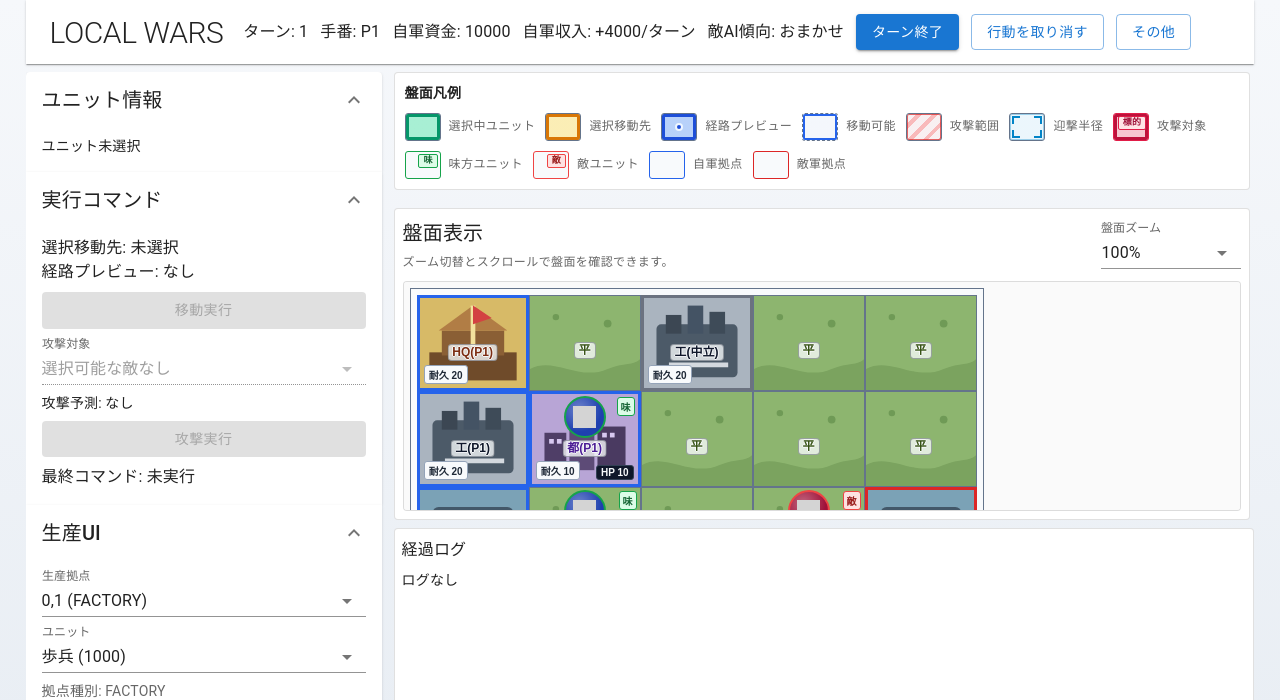
Test: BattleScreen UIテスト: 盤面ズーム › ズーム変更後もタイルクリックで正しいユニット選択ができる
Select "70%" in the dropdown labelled "盤面ズーム" at (1171, 253), box top-left (1101, 237), bottom-right (1241, 269)
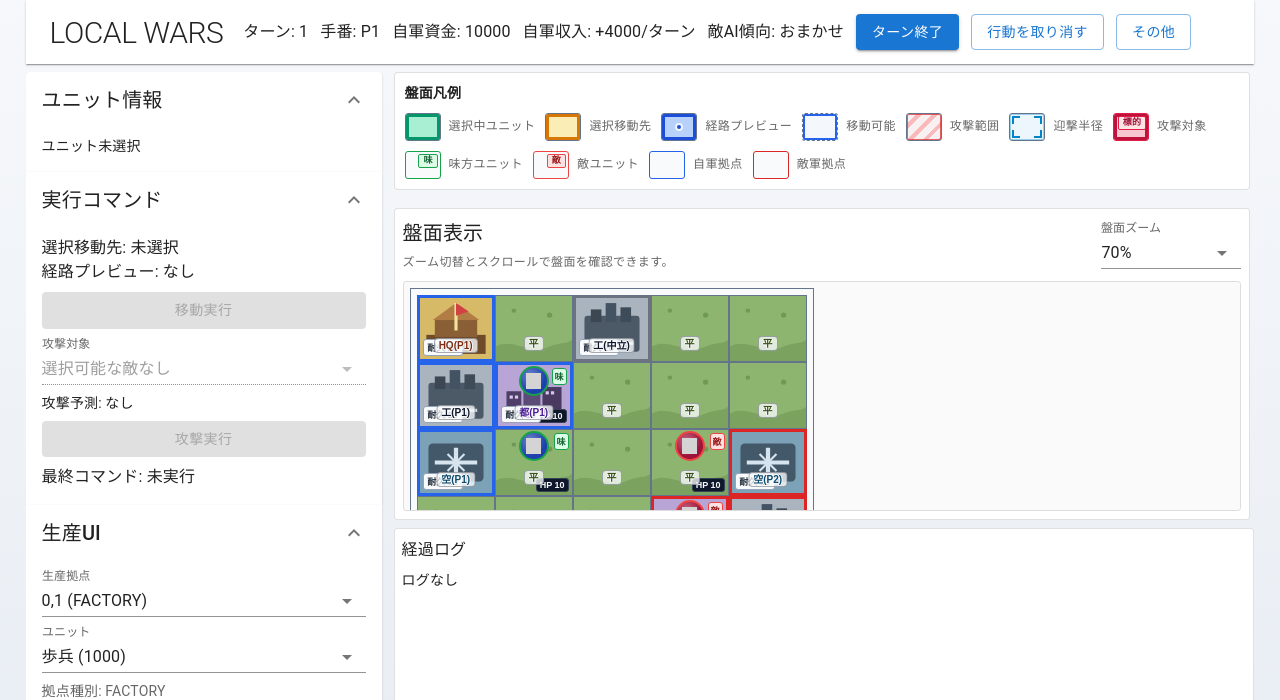
Click the button with aria-label "タイル 1,2".
click(534, 462)  # box top-left (495, 429), bottom-right (573, 496)
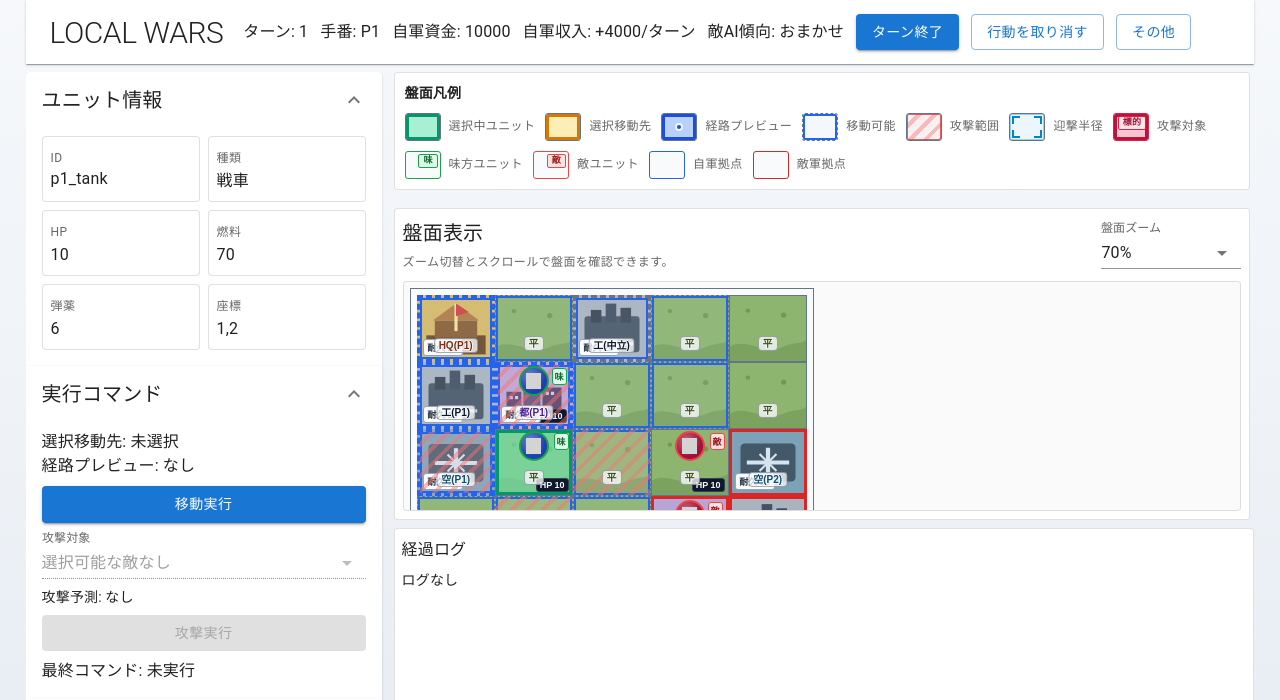
Expected: the text "p1_tank" is shown, top-left (51, 169), bottom-right (108, 188)
Expected: the button named "タイル 2,2" is enabled, top-left (573, 429), bottom-right (651, 496)
